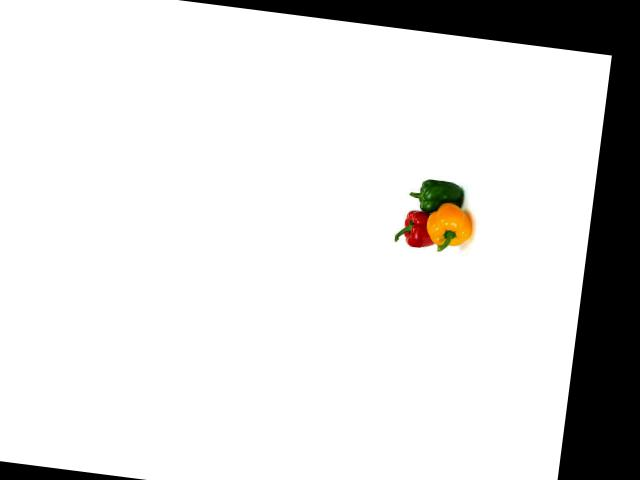bell_pepper: (388, 202, 444, 256)
